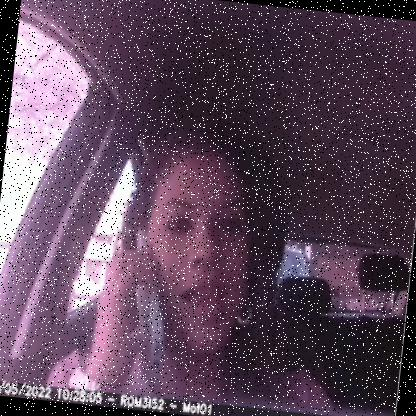phone: (108, 220, 184, 393)
